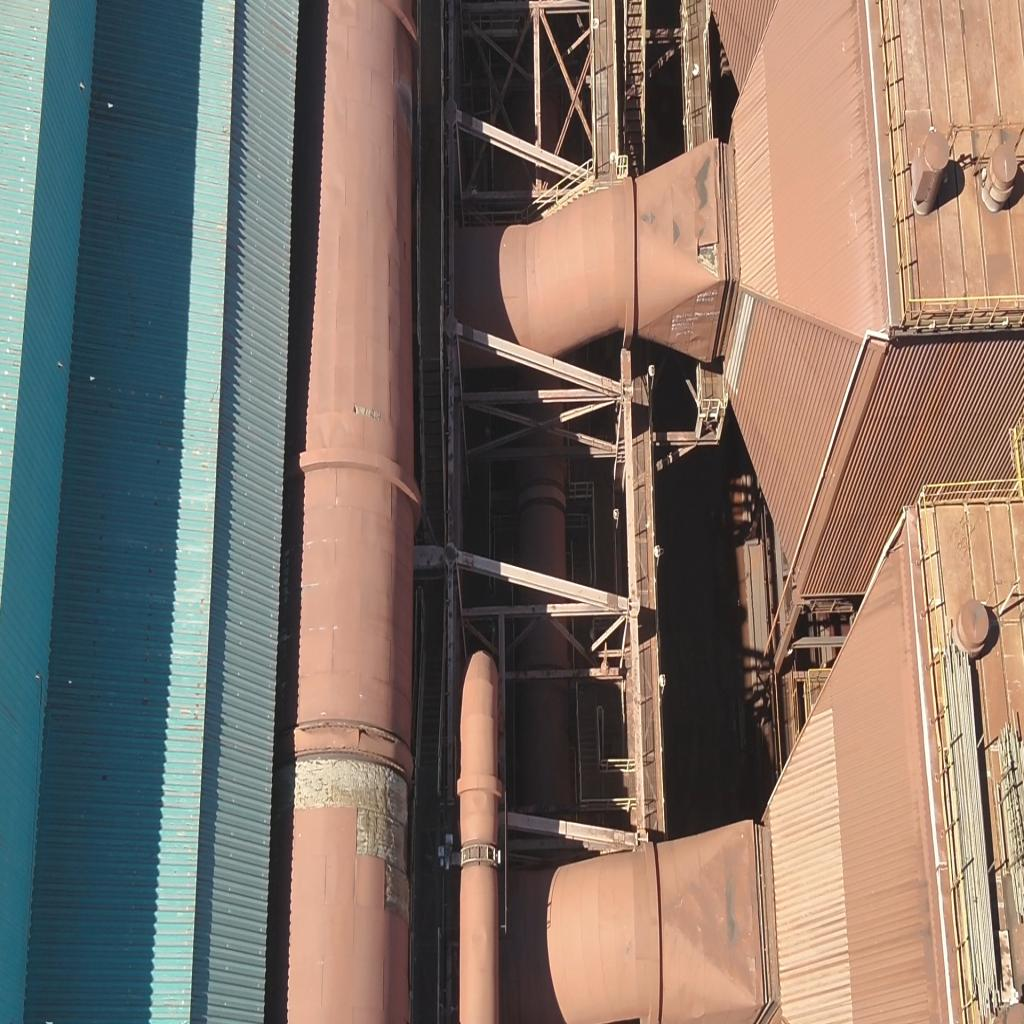Failures: (278, 746, 412, 909), (698, 239, 718, 278)
